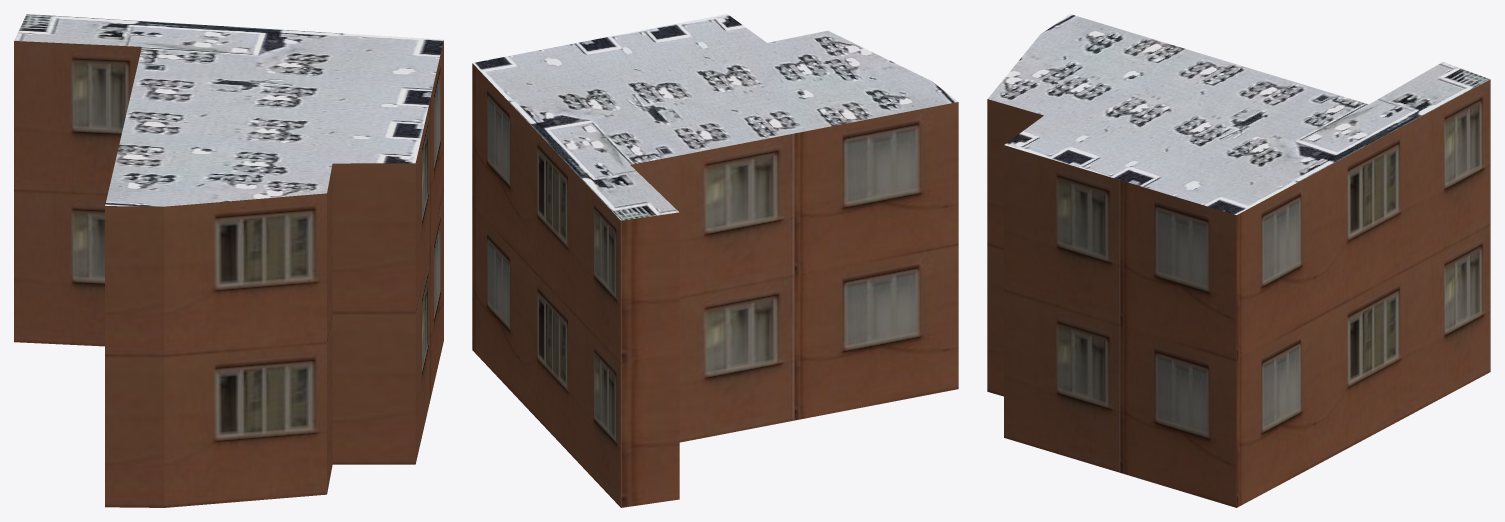
File: ResTex__4106.fbx
The picture shows the model from 3 angles, left to right: view 1: azimuth 30°, elevation 25°; view 2: azimuth 150°, elevation 25°; view 3: azimuth 270°, elevation 25°; orthographic projection. The views are drawn at different scales.
Visible parts, largest first — view 1: CityEngineMaterial_20_m, CityEngineMaterial_m; view 2: CityEngineMaterial_20_m, CityEngineMaterial_m; view 3: CityEngineMaterial_20_m, CityEngineMaterial_m.
Boxes of the visible parts, bbox=[...] form: CityEngineMaterial_20_m: bbox=[14, 40, 443, 507]; CityEngineMaterial_m: bbox=[14, 14, 443, 206]; CityEngineMaterial_20_m: bbox=[472, 63, 958, 507]; CityEngineMaterial_m: bbox=[472, 14, 957, 220]; CityEngineMaterial_20_m: bbox=[987, 79, 1490, 507]; CityEngineMaterial_m: bbox=[988, 14, 1489, 214].
Bounding box in the file's own units: 8.85 × 6 × 9.34.
2 materials, 2 textured.
